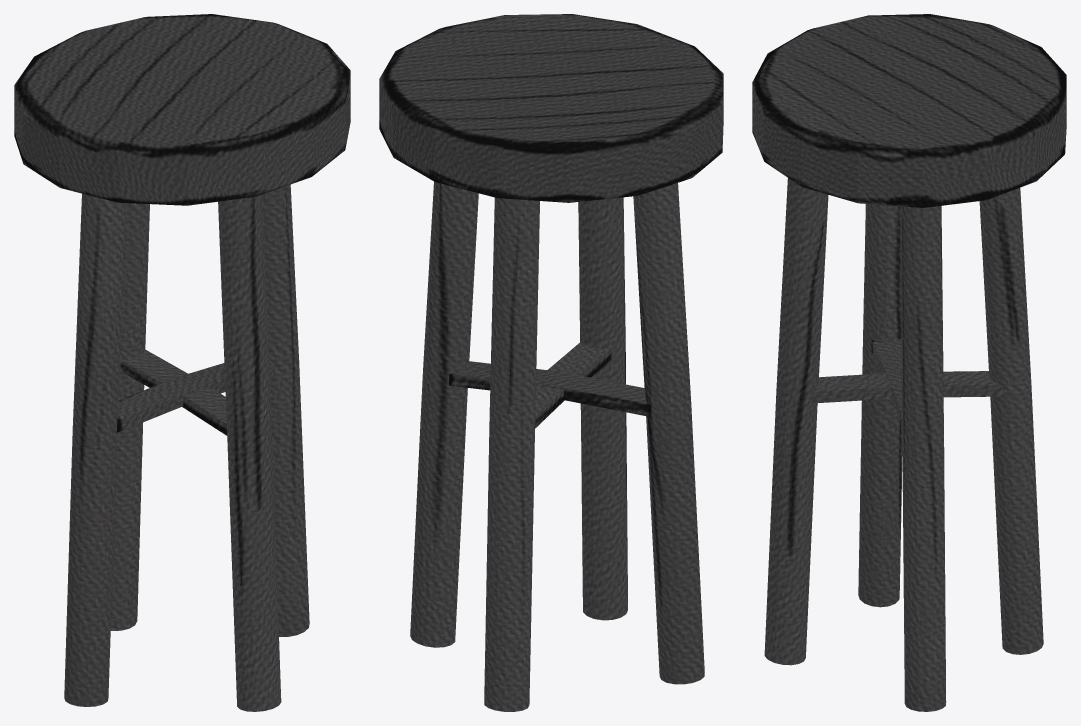
The model's file is furniture_bar_chair_2.glb.
The picture shows the model from 3 angles, left to right: view 1: azimuth 30°, elevation 25°; view 2: azimuth 150°, elevation 25°; view 3: azimuth 270°, elevation 25°; orthographic projection. The views are drawn at different scales.
Visible parts, largest first — view 1: Chair_bar_2; view 2: Chair_bar_2; view 3: Chair_bar_2.
Boxes of the visible parts, x1,y1,x2,y2 form: Chair_bar_2: (14,14,350,711); Chair_bar_2: (379,14,723,711); Chair_bar_2: (752,14,1066,711).
Bounding box in the file's own units: 0.029 × 0.0537 × 0.0268.
Materials: 1 (1 with a texture image).
